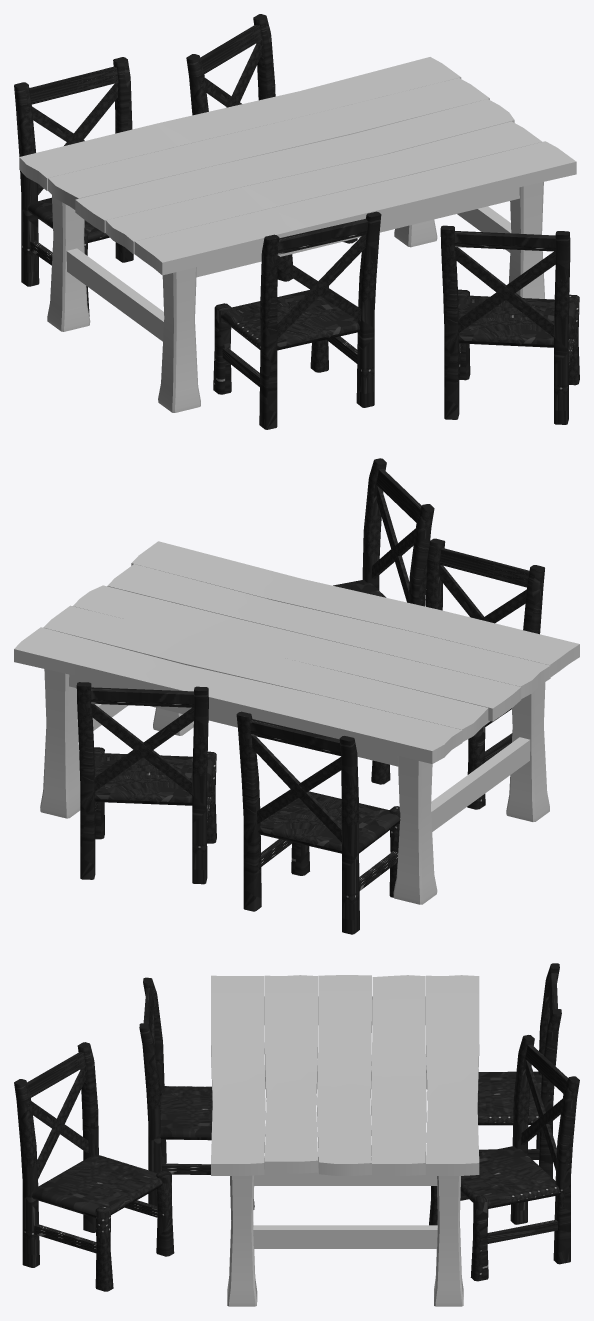
3 views of the same model, one above another, from view 1: azimuth 30°, elevation 25°; view 2: azimuth 150°, elevation 25°; view 3: azimuth 270°, elevation 25° (orthographic). The views are drawn at different scales.
Visible parts, largest first — view 1: table01.001, chair, chair.003, chair.001, chair.002; view 2: table01.001, chair.001, chair.002, chair, chair.003; view 3: table01.001, chair.003, chair.002, chair, chair.001.
Boxes of the visible parts, bbox=[...] form: table01.001: bbox=[19, 57, 576, 412]; chair: bbox=[213, 211, 381, 429]; chair.003: bbox=[440, 225, 579, 424]; chair.001: bbox=[14, 57, 133, 316]; chair.002: bbox=[186, 14, 357, 281]; table01.001: bbox=[14, 541, 579, 904]; chair.001: bbox=[236, 711, 400, 934]; chair.002: bbox=[76, 682, 216, 884]; chair: bbox=[371, 538, 544, 809]; chair.003: bbox=[333, 458, 434, 606]; table01.001: bbox=[211, 975, 479, 1306]; chair.003: bbox=[14, 1042, 174, 1291]; chair.002: bbox=[429, 1035, 579, 1281]; chair: bbox=[139, 977, 254, 1209]; chair.001: bbox=[477, 963, 561, 1178].
Bounding box in the file's own units: 452 × 203 × 573.
